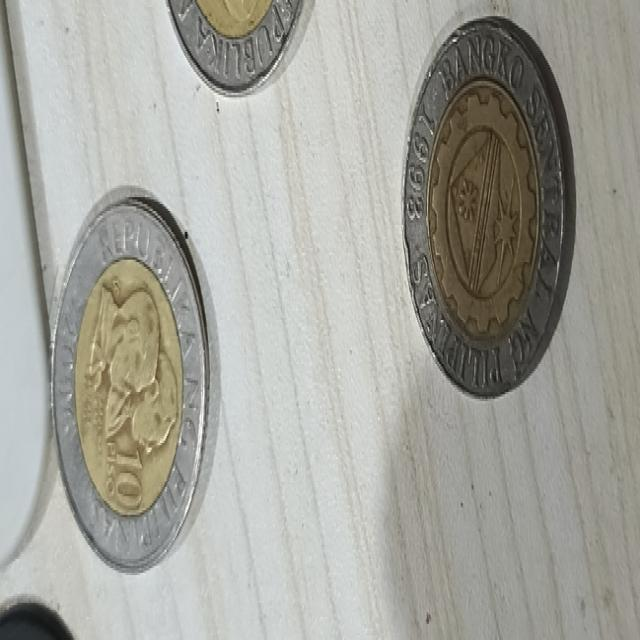10_peso: (403, 21, 570, 394), (52, 199, 210, 570)
